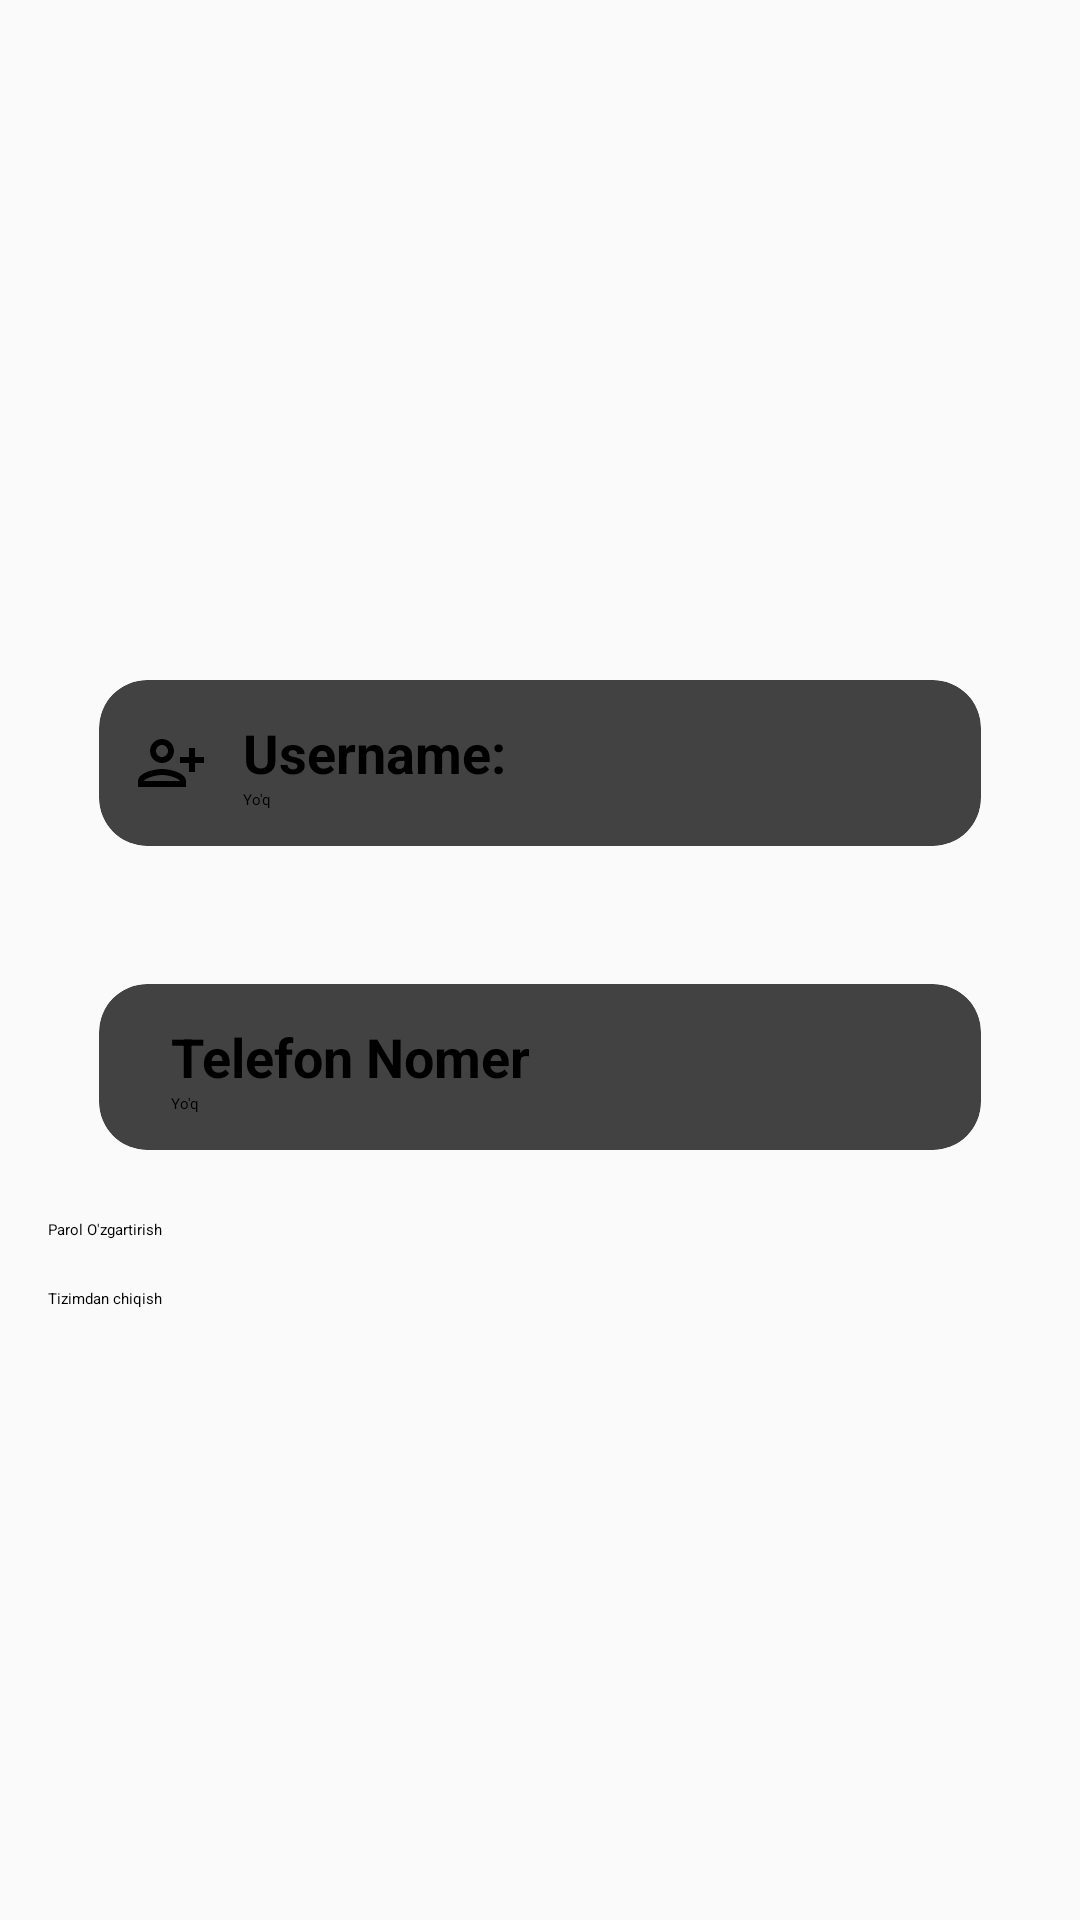

Screen size 1080px×1920px. Icon name, then its center in pixels as point (x, y):
person: point (171, 763)
